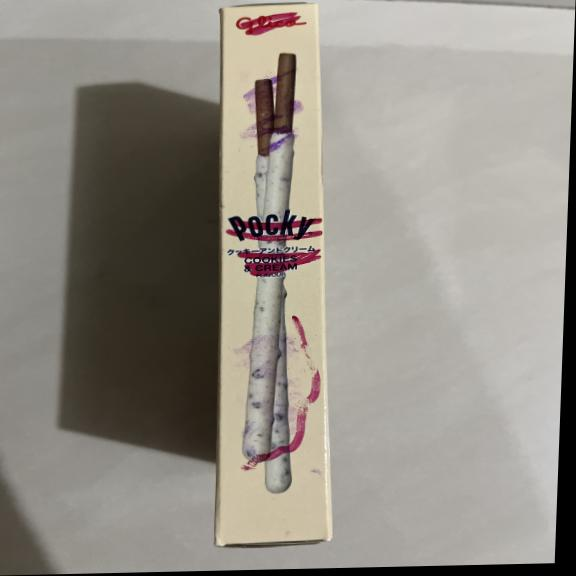Kertas: (200, 0, 354, 551)
